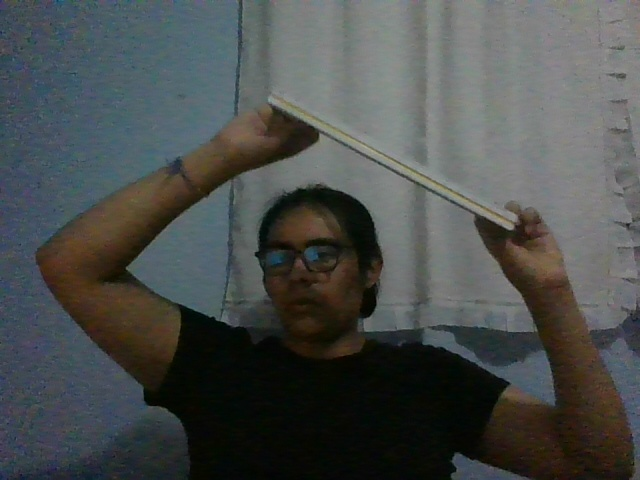regla: (267, 91, 521, 232)
